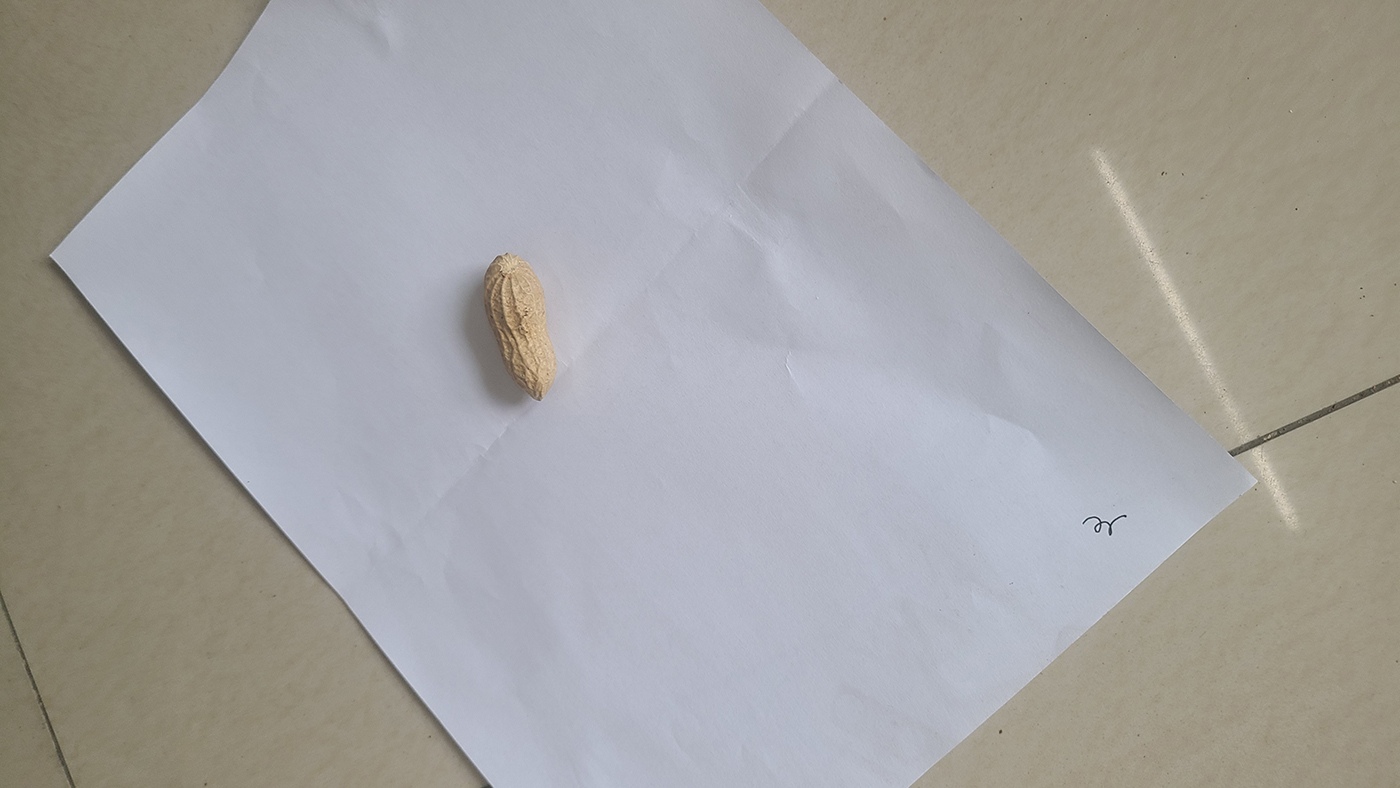h: (482, 252, 559, 403)
